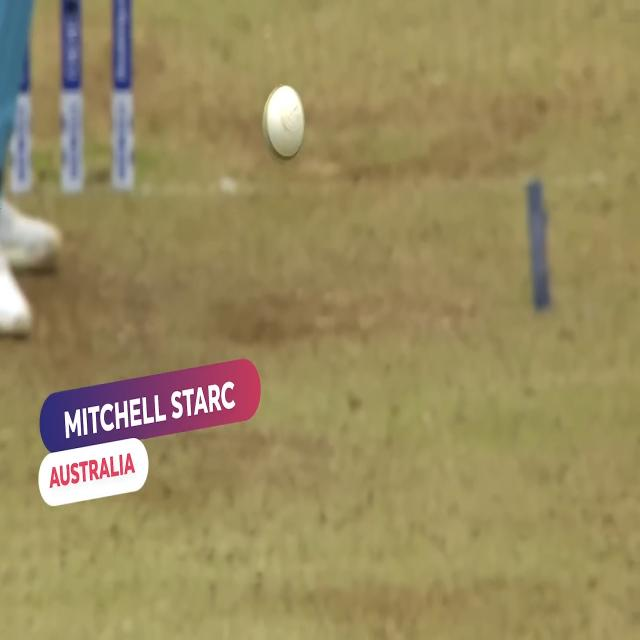ball: (252, 70, 311, 172)
